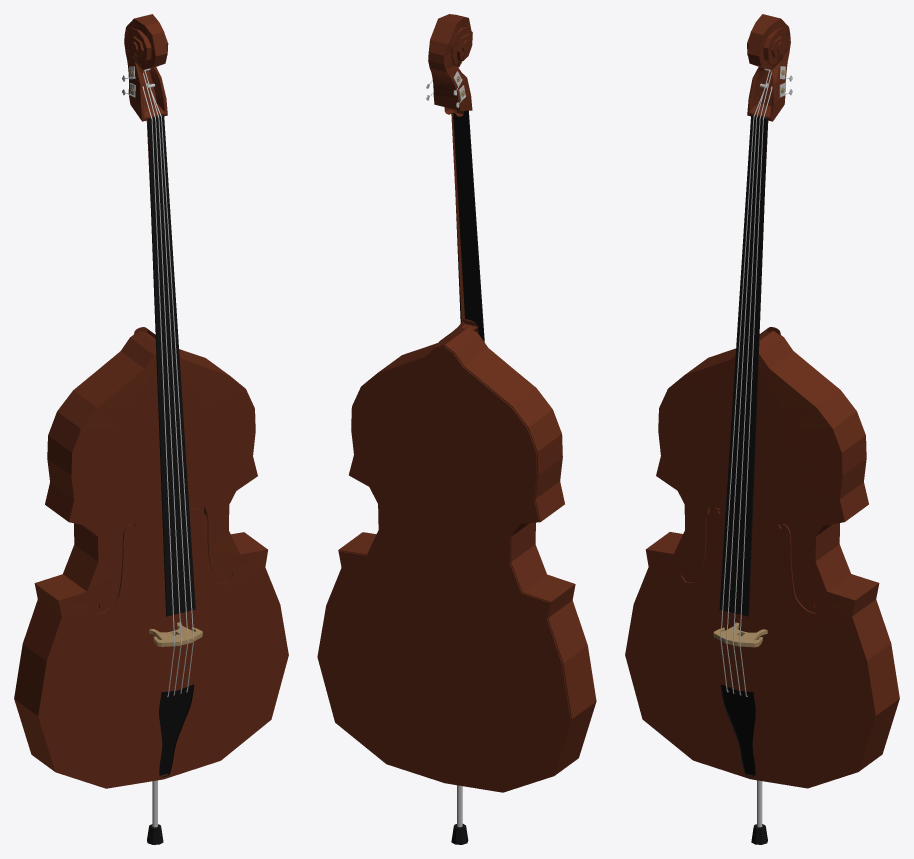
The model's file is bass.glb.
3 views of the same model, side by side, from view 1: azimuth 30°, elevation 25°; view 2: azimuth 150°, elevation 25°; view 3: azimuth 330°, elevation 25° (orthographic).
Parts seen in each view (by area): view 1: Circle.006; view 2: Circle.006; view 3: Circle.006.
Part boxes in pixels (box(x1,y1,x2,y2)): Circle.006: box(14, 14, 288, 844); Circle.006: box(317, 14, 596, 844); Circle.006: box(625, 14, 899, 844).
Size of the model in its own units: 0.8343 by 2.6 by 0.3053.
